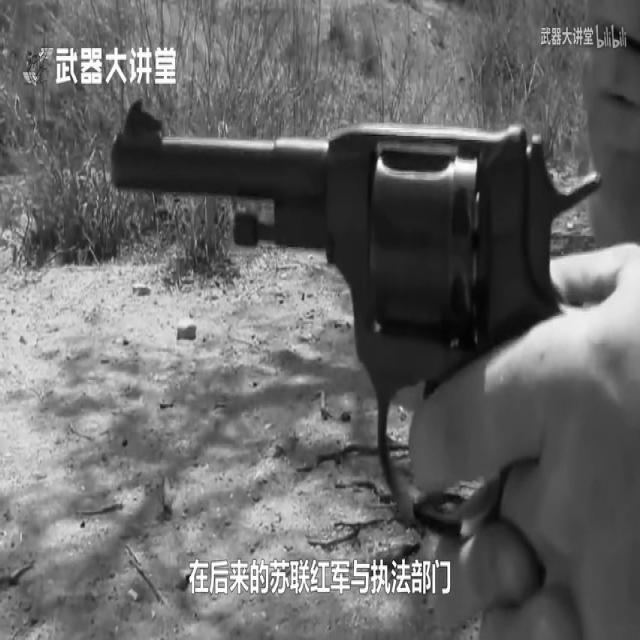Hand-Gun: (103, 90, 545, 508)
